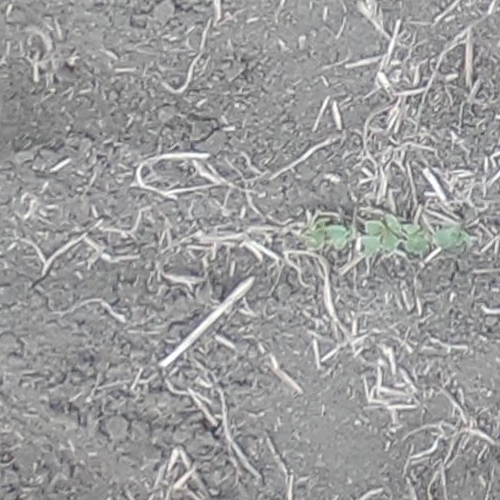isolated: (360, 213, 400, 255), (306, 220, 348, 249), (433, 223, 473, 248), (400, 222, 428, 253)
